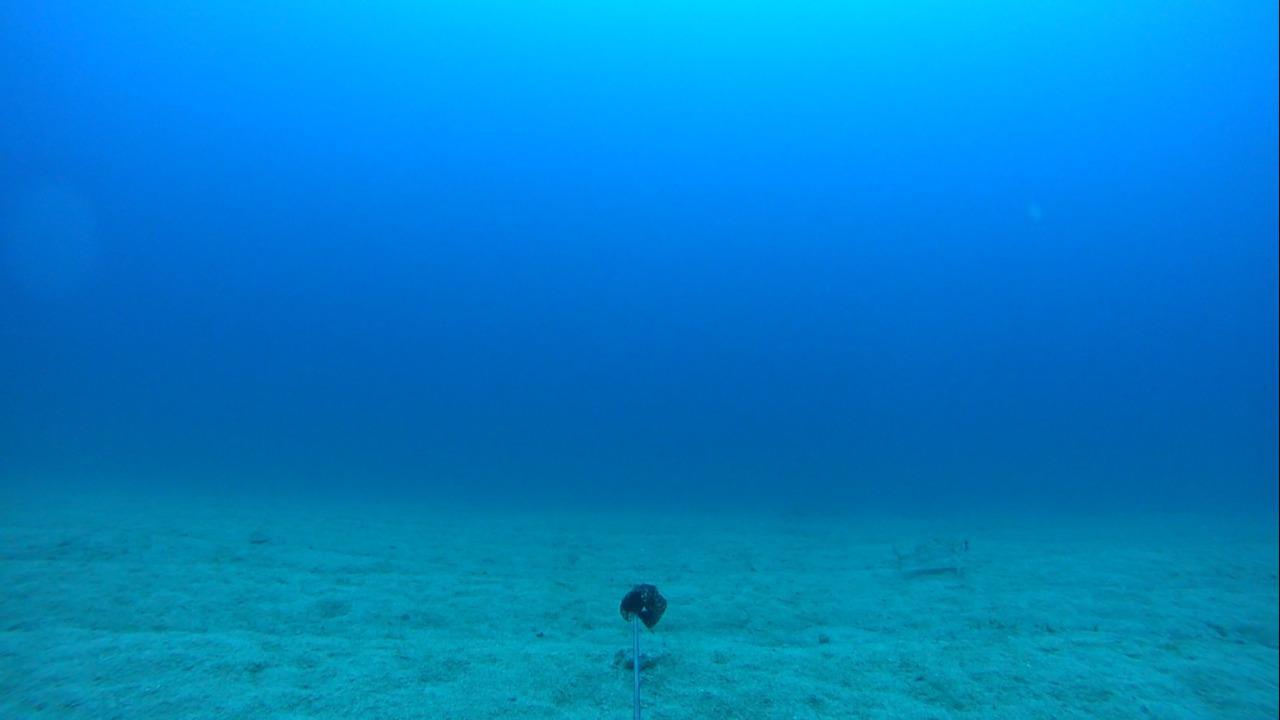dactylopterus: (877, 519, 981, 585)
